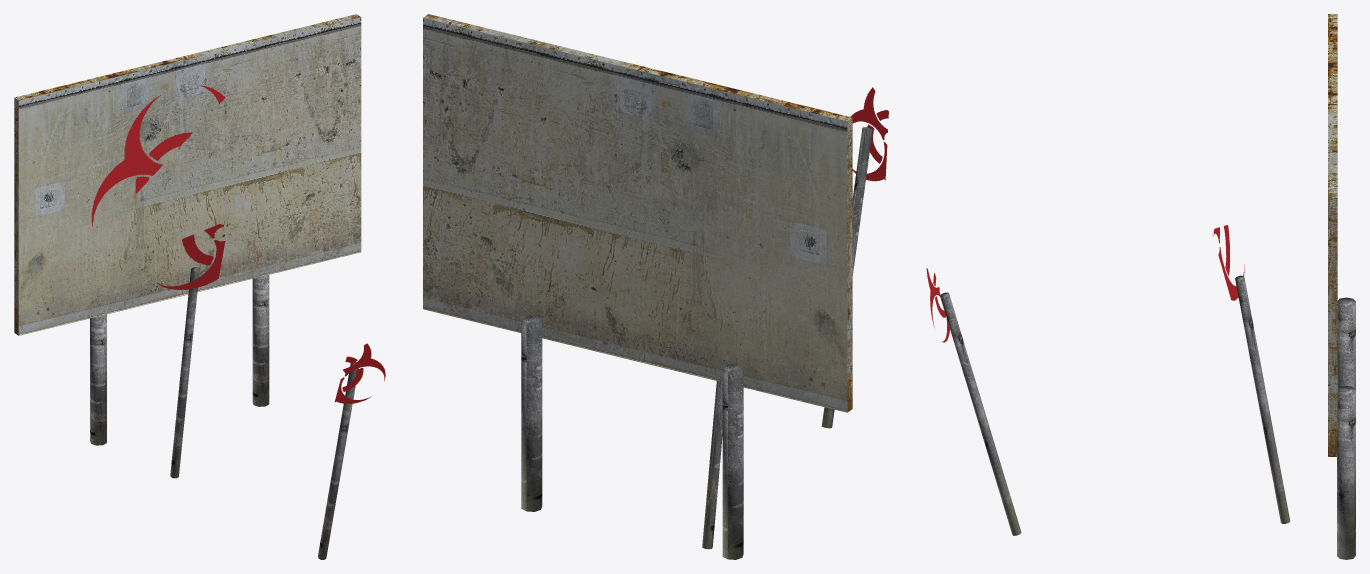
Rendered from BiohazardBillboard.glb.
3 renders of one model, left to right at view 1: azimuth 30°, elevation 25°; view 2: azimuth 150°, elevation 25°; view 3: azimuth 270°, elevation 25°, orthographic. The views are drawn at different scales.
Parts seen in each view (by area): view 1: Cube.027, Plane.004, Cube.028, Cube.029, Cube.044, Cube.045, Plane.005, Plane.006; view 2: Cube.027, Cube.029, Cube.028, Cube.044, Cube.045, Plane.006; view 3: Cube.027, Cube.028, Cube.044, Cube.045, Cube.029, Plane.005.
Boxes of the visible parts, x1,y1,x2,y2 form: Cube.027: (14,14,361,335); Plane.004: (91,85,225,226); Cube.028: (252,275,269,406); Cube.029: (90,314,106,445); Cube.044: (170,267,199,478); Cube.045: (318,362,358,559); Plane.005: (156,224,228,289); Plane.006: (334,343,385,403); Cube.027: (423,14,852,412); Cube.029: (722,364,743,559); Cube.028: (521,316,542,511); Cube.044: (702,381,722,549); Cube.045: (821,127,872,428); Plane.006: (850,87,888,181); Cube.027: (1328,14,1337,456); Cube.028: (1337,386,1355,559); Cube.044: (1235,275,1290,523); Cube.045: (940,292,1021,535); Cube.029: (1337,297,1355,389); Plane.005: (1212,225,1244,300).
Size of the model in its own units: 2.03 by 2.24 by 2.05.
Materials: 3 (3 with a texture image).
